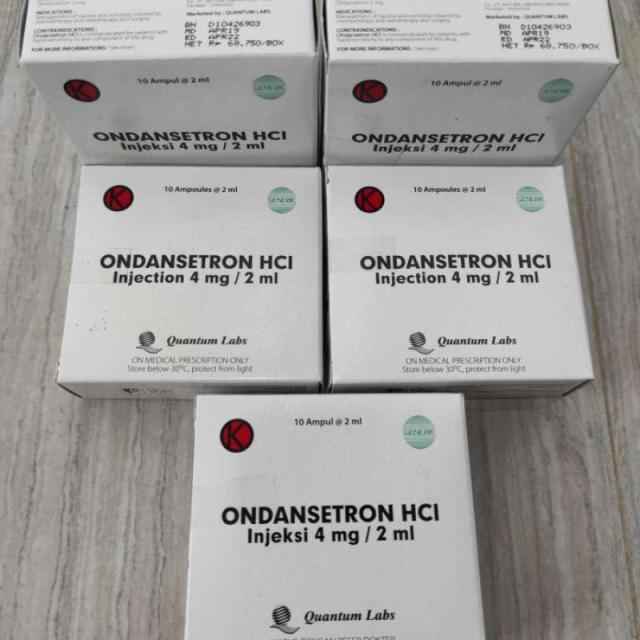drug-name: (221, 502, 400, 525)
